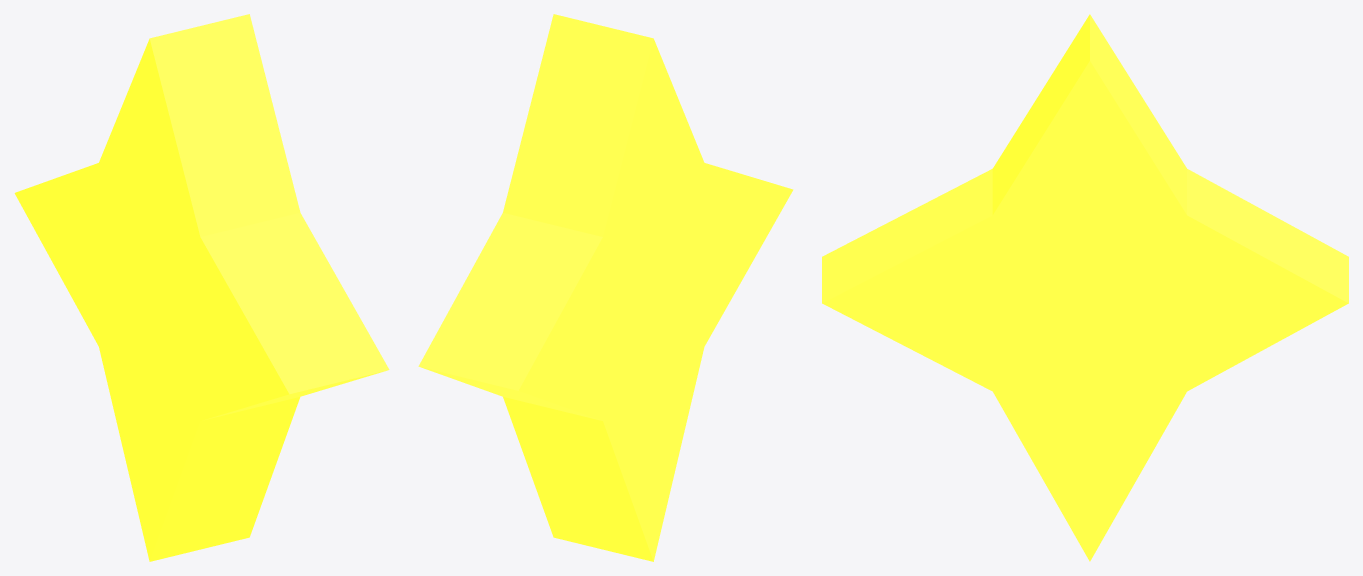
Rendered from star.glb.
3 views of the same model, side by side, from view 1: azimuth 30°, elevation 25°; view 2: azimuth 150°, elevation 25°; view 3: azimuth 270°, elevation 25° (orthographic). The views are drawn at different scales.
Parts seen in each view (by area): view 1: Cube; view 2: Cube; view 3: Cube.
Boxes of the visible parts, x1,y1,x2,y2 form: Cube: (14,14,389,561); Cube: (418,14,793,561); Cube: (822,14,1348,561).
Size of the model in its own units: 1.14 by 5.69 by 5.42.
